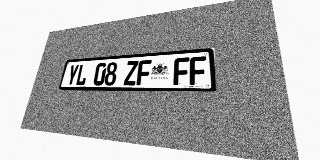0: (93, 63, 107, 86)
8: (104, 62, 118, 85)
F: (190, 56, 207, 85), (173, 57, 189, 85), (136, 60, 152, 85)
L: (75, 64, 89, 86)
Y: (66, 64, 79, 86)
Z: (123, 60, 139, 85)
